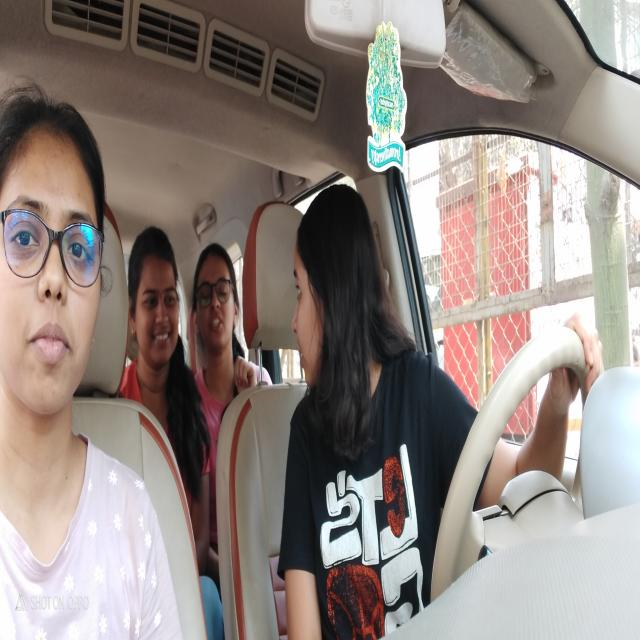LeftRight: (285, 234, 339, 386)
person: (3, 127, 103, 411), (131, 237, 184, 361), (196, 249, 238, 355)
